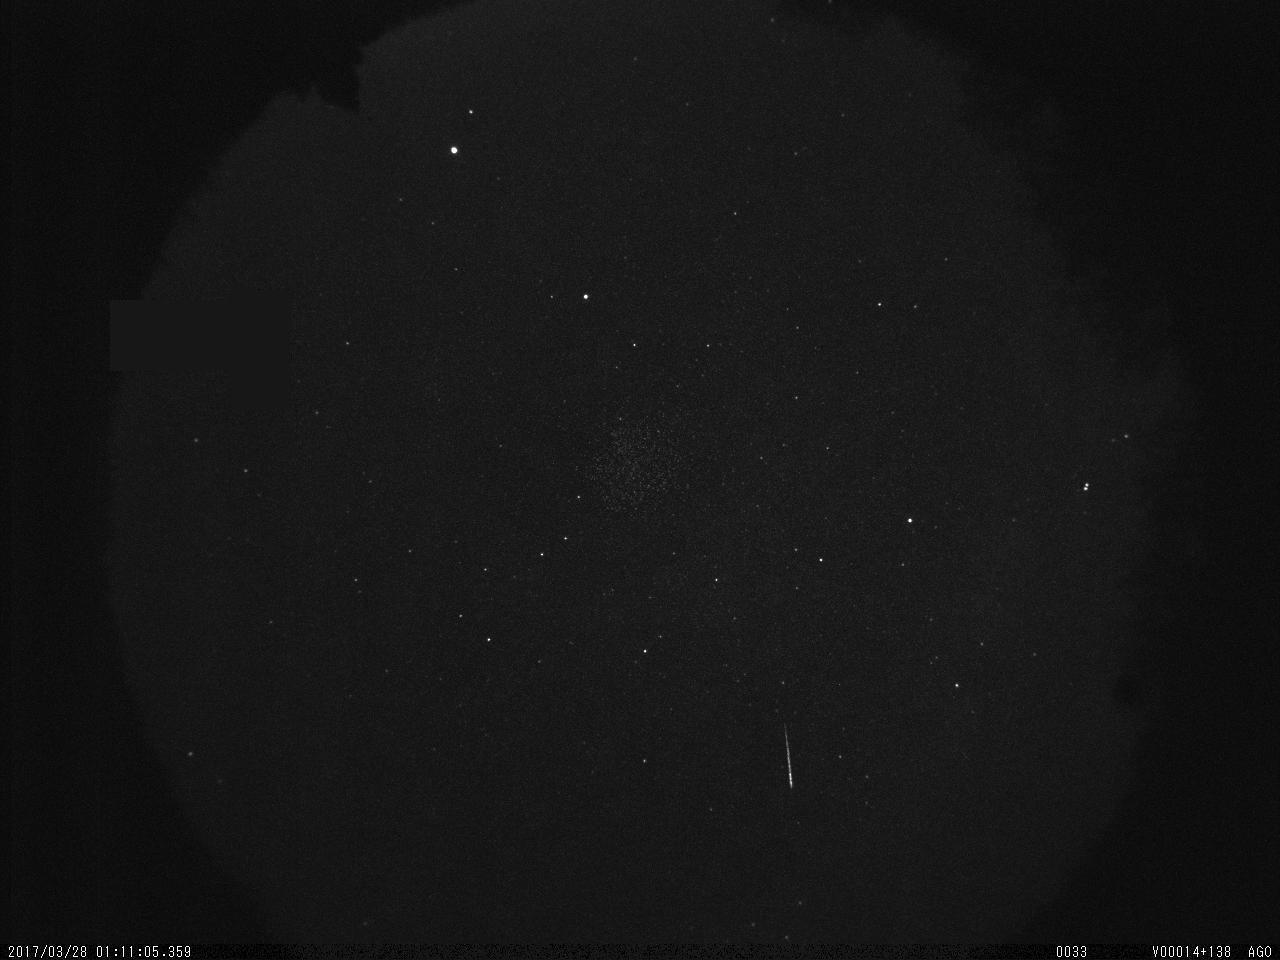Meteor: (776, 715, 798, 798)
